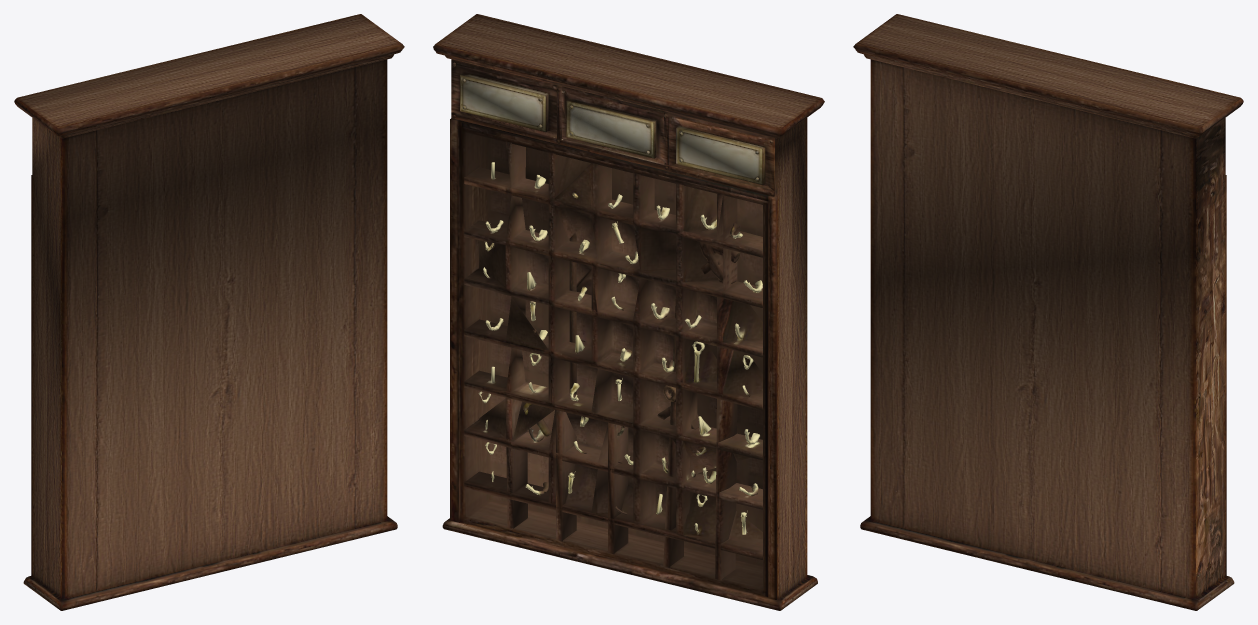
Rendered from theme-hotel-key-rack-v05.glb.
The picture shows the model from 3 angles, left to right: view 1: azimuth 30°, elevation 25°; view 2: azimuth 150°, elevation 25°; view 3: azimuth 330°, elevation 25°; orthographic projection.
Visible parts, largest first — view 1: tripo_node_08a0f56d-1175-46c6-b352-9dce29974fa7; view 2: tripo_node_08a0f56d-1175-46c6-b352-9dce29974fa7; view 3: tripo_node_08a0f56d-1175-46c6-b352-9dce29974fa7.
Boxes of the visible parts, x1,y1,x2,y2 form: tripo_node_08a0f56d-1175-46c6-b352-9dce29974fa7: [14, 14, 404, 610]; tripo_node_08a0f56d-1175-46c6-b352-9dce29974fa7: [433, 14, 824, 610]; tripo_node_08a0f56d-1175-46c6-b352-9dce29974fa7: [853, 14, 1243, 610].
Size of the model in its own units: 0.6404 by 0.85 by 0.1381.
Materials: 1 (1 with a texture image).
